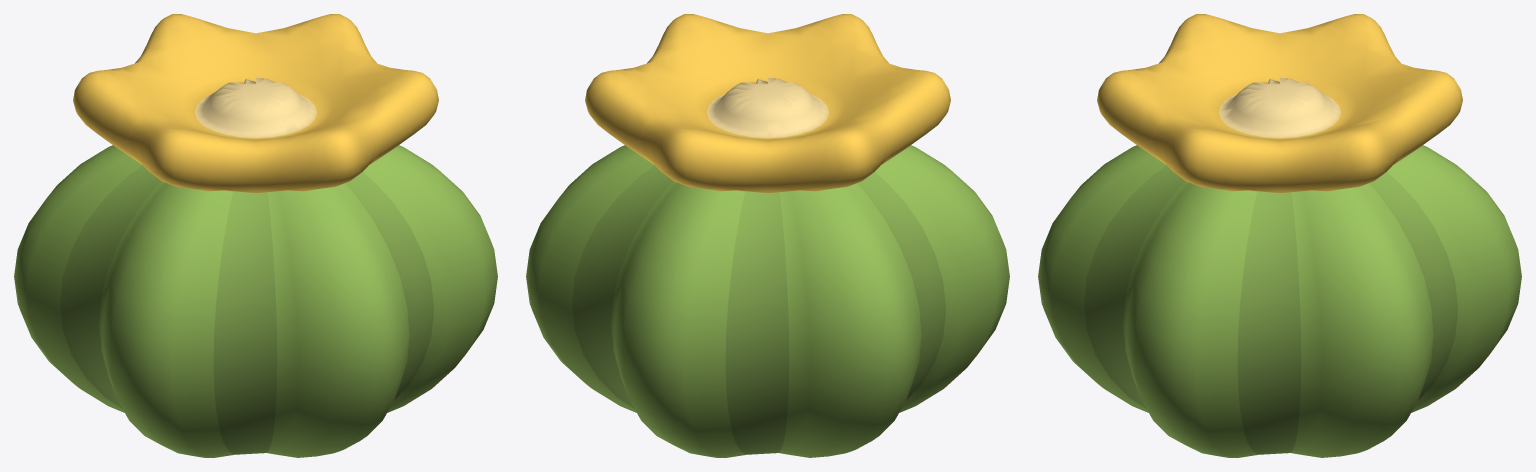
The model's file is cactus_5.fbx.
3 renders of one model, left to right at view 1: azimuth 30°, elevation 25°; view 2: azimuth 150°, elevation 25°; view 3: azimuth 270°, elevation 25°, orthographic.
Parts seen in each view (by area): view 1: cactus_5; view 2: cactus_5; view 3: cactus_5.
Boxes of the visible parts, bbox=[...] form: cactus_5: bbox=[14, 14, 497, 457]; cactus_5: bbox=[526, 14, 1009, 457]; cactus_5: bbox=[1038, 14, 1521, 457].
Bounding box in the file's own units: 137 × 125 × 153.
1 material, 1 textured.
